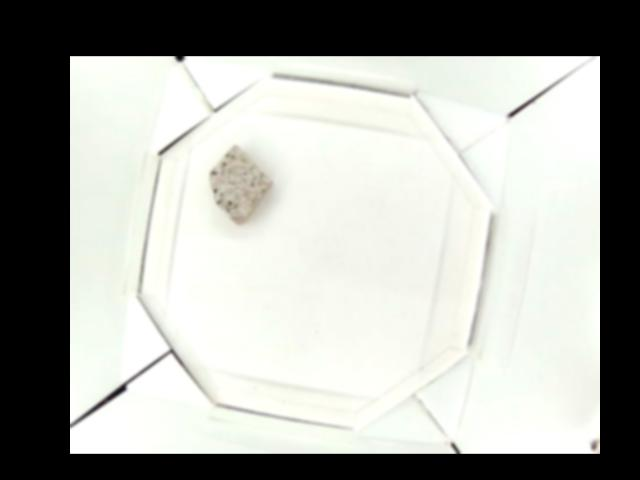China: (209, 144, 272, 226)
